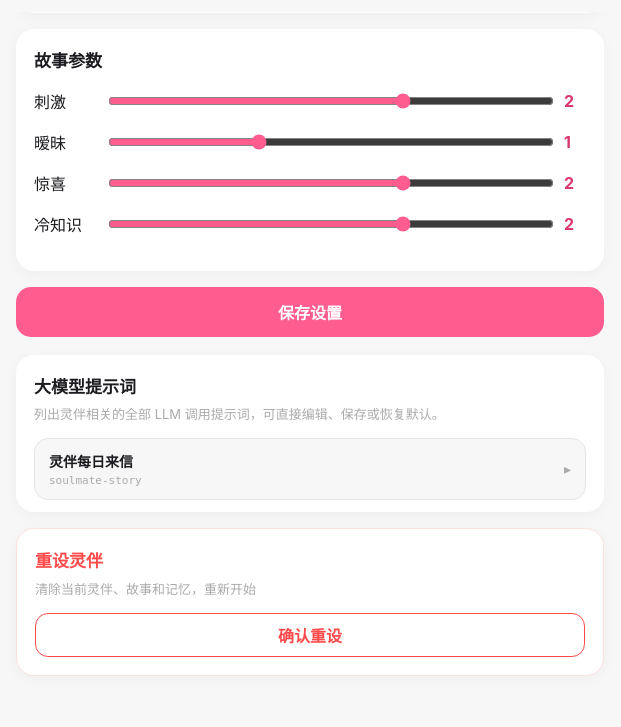
Soul Mate MVP › edits and saves a Soul Mate LLM prompt from settings
(page scrolled)
Click the button "灵伴每日来信 soulmate-story ▸": coordinates (91, 461) x1=35 y1=439 x2=585 y2=499
(page scrolled)
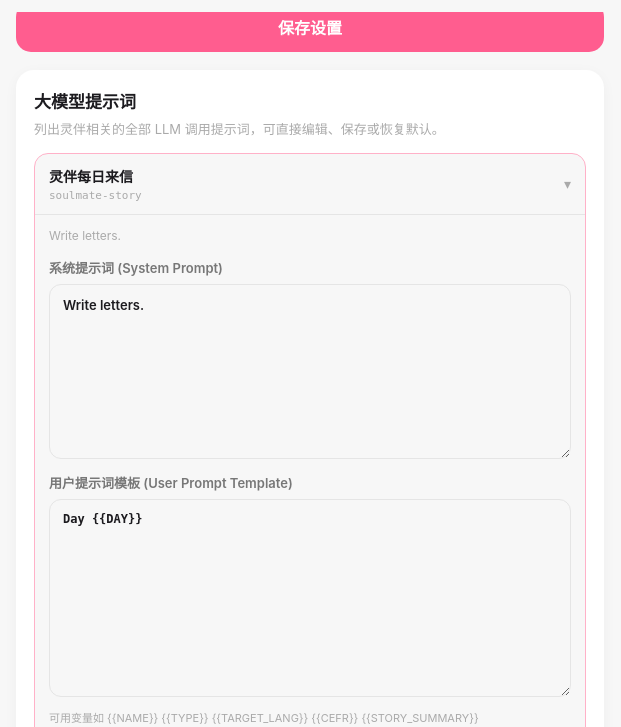
Now the number of text boxes is 2
Replace the text in the text box labelled "系统提示词 (System Prompt)" with "Write warmer letters.": coordinates (310, 372) x1=49 y1=284 x2=571 y2=459
(page scrolled)
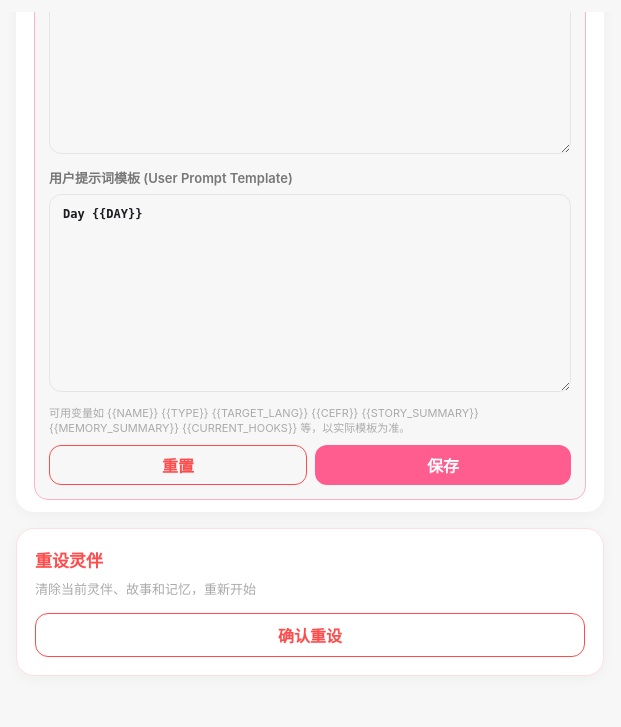
Click the button "保存": coordinates (443, 465) x1=315 y1=445 x2=571 y2=485
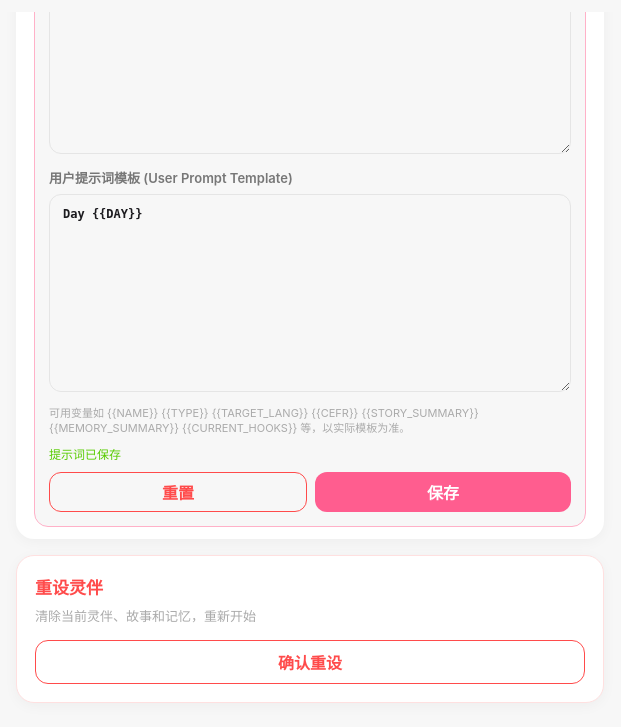
Now the text "提示词已保存" is shown, box x1=49 y1=447 x2=121 y2=462
